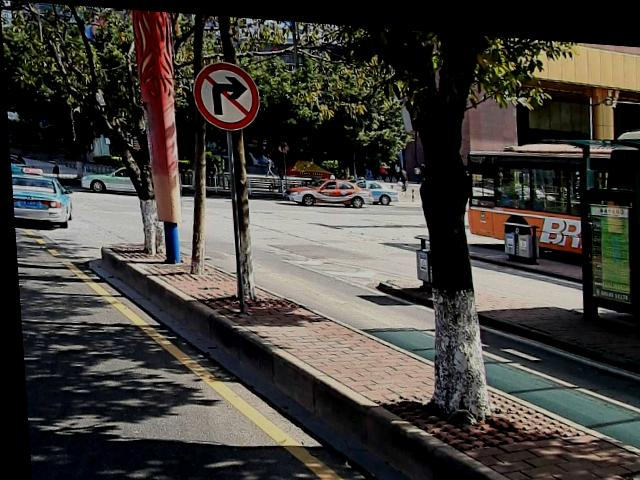not_turn_right: (181, 52, 267, 133)
